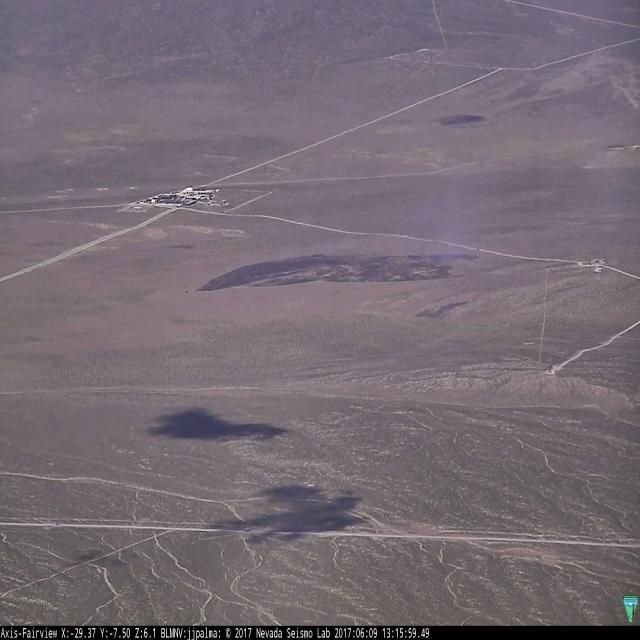smoke: (392, 165, 492, 282)
